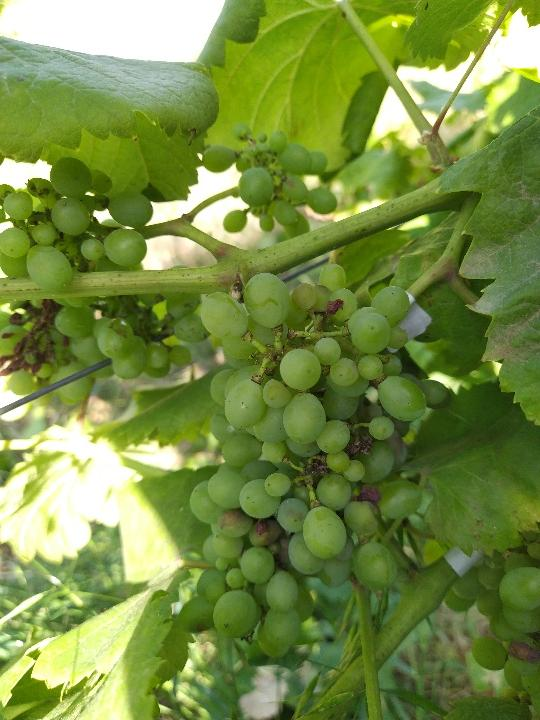grape: (173, 262, 452, 665), (3, 156, 204, 406), (197, 124, 340, 240)
